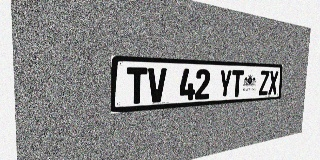2: (195, 69, 210, 100)
4: (179, 68, 196, 101)
T: (126, 67, 147, 104), (231, 70, 244, 97)
V: (147, 68, 167, 103)
X: (268, 71, 278, 95)
Y: (218, 69, 232, 98)
Z: (259, 70, 270, 95)
